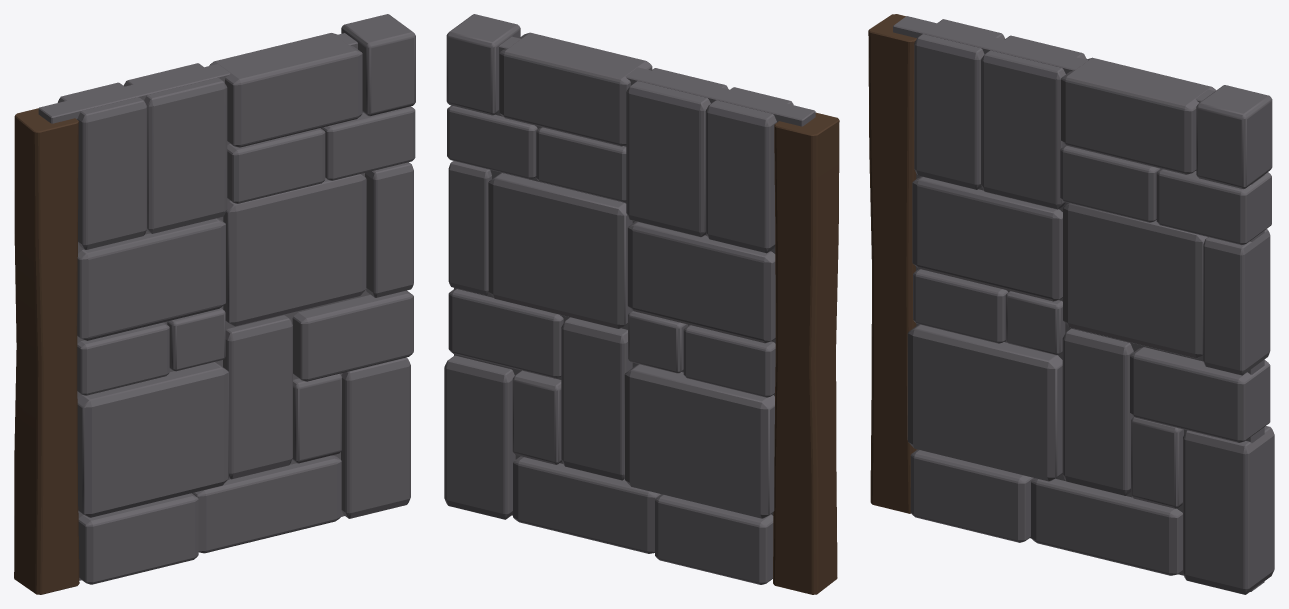
The model's file is RockWall.fbx.
3 views of the same model, side by side, from view 1: azimuth 30°, elevation 25°; view 2: azimuth 150°, elevation 25°; view 3: azimuth 330°, elevation 25° (orthographic). The views are drawn at different scales.
Visible parts, largest first — view 1: Cube.075; view 2: Cube.075; view 3: Cube.075.
Part boxes in pixels (bbox=[...]): Cube.075: bbox=[14, 14, 415, 594]; Cube.075: bbox=[444, 14, 839, 594]; Cube.075: bbox=[868, 14, 1274, 594].
Bounding box in the file's own units: 2.12 × 2.56 × 0.3521.
